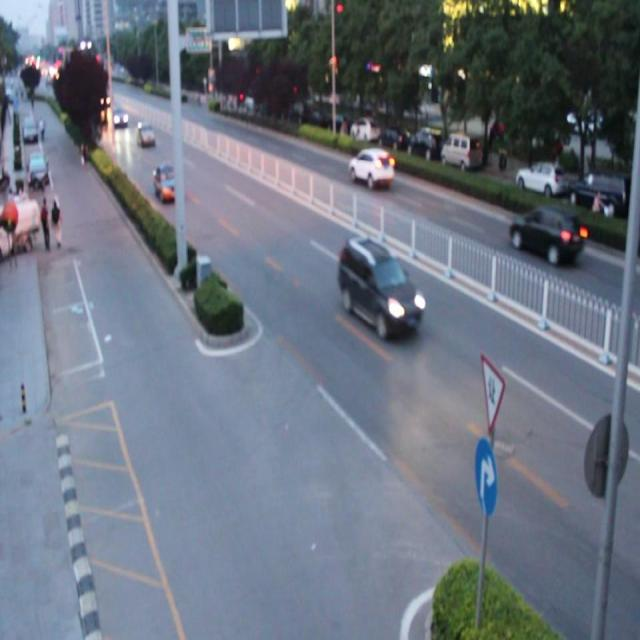car: (338, 235, 422, 340), (508, 202, 585, 269), (346, 146, 393, 187), (152, 165, 182, 201), (136, 120, 156, 149)
